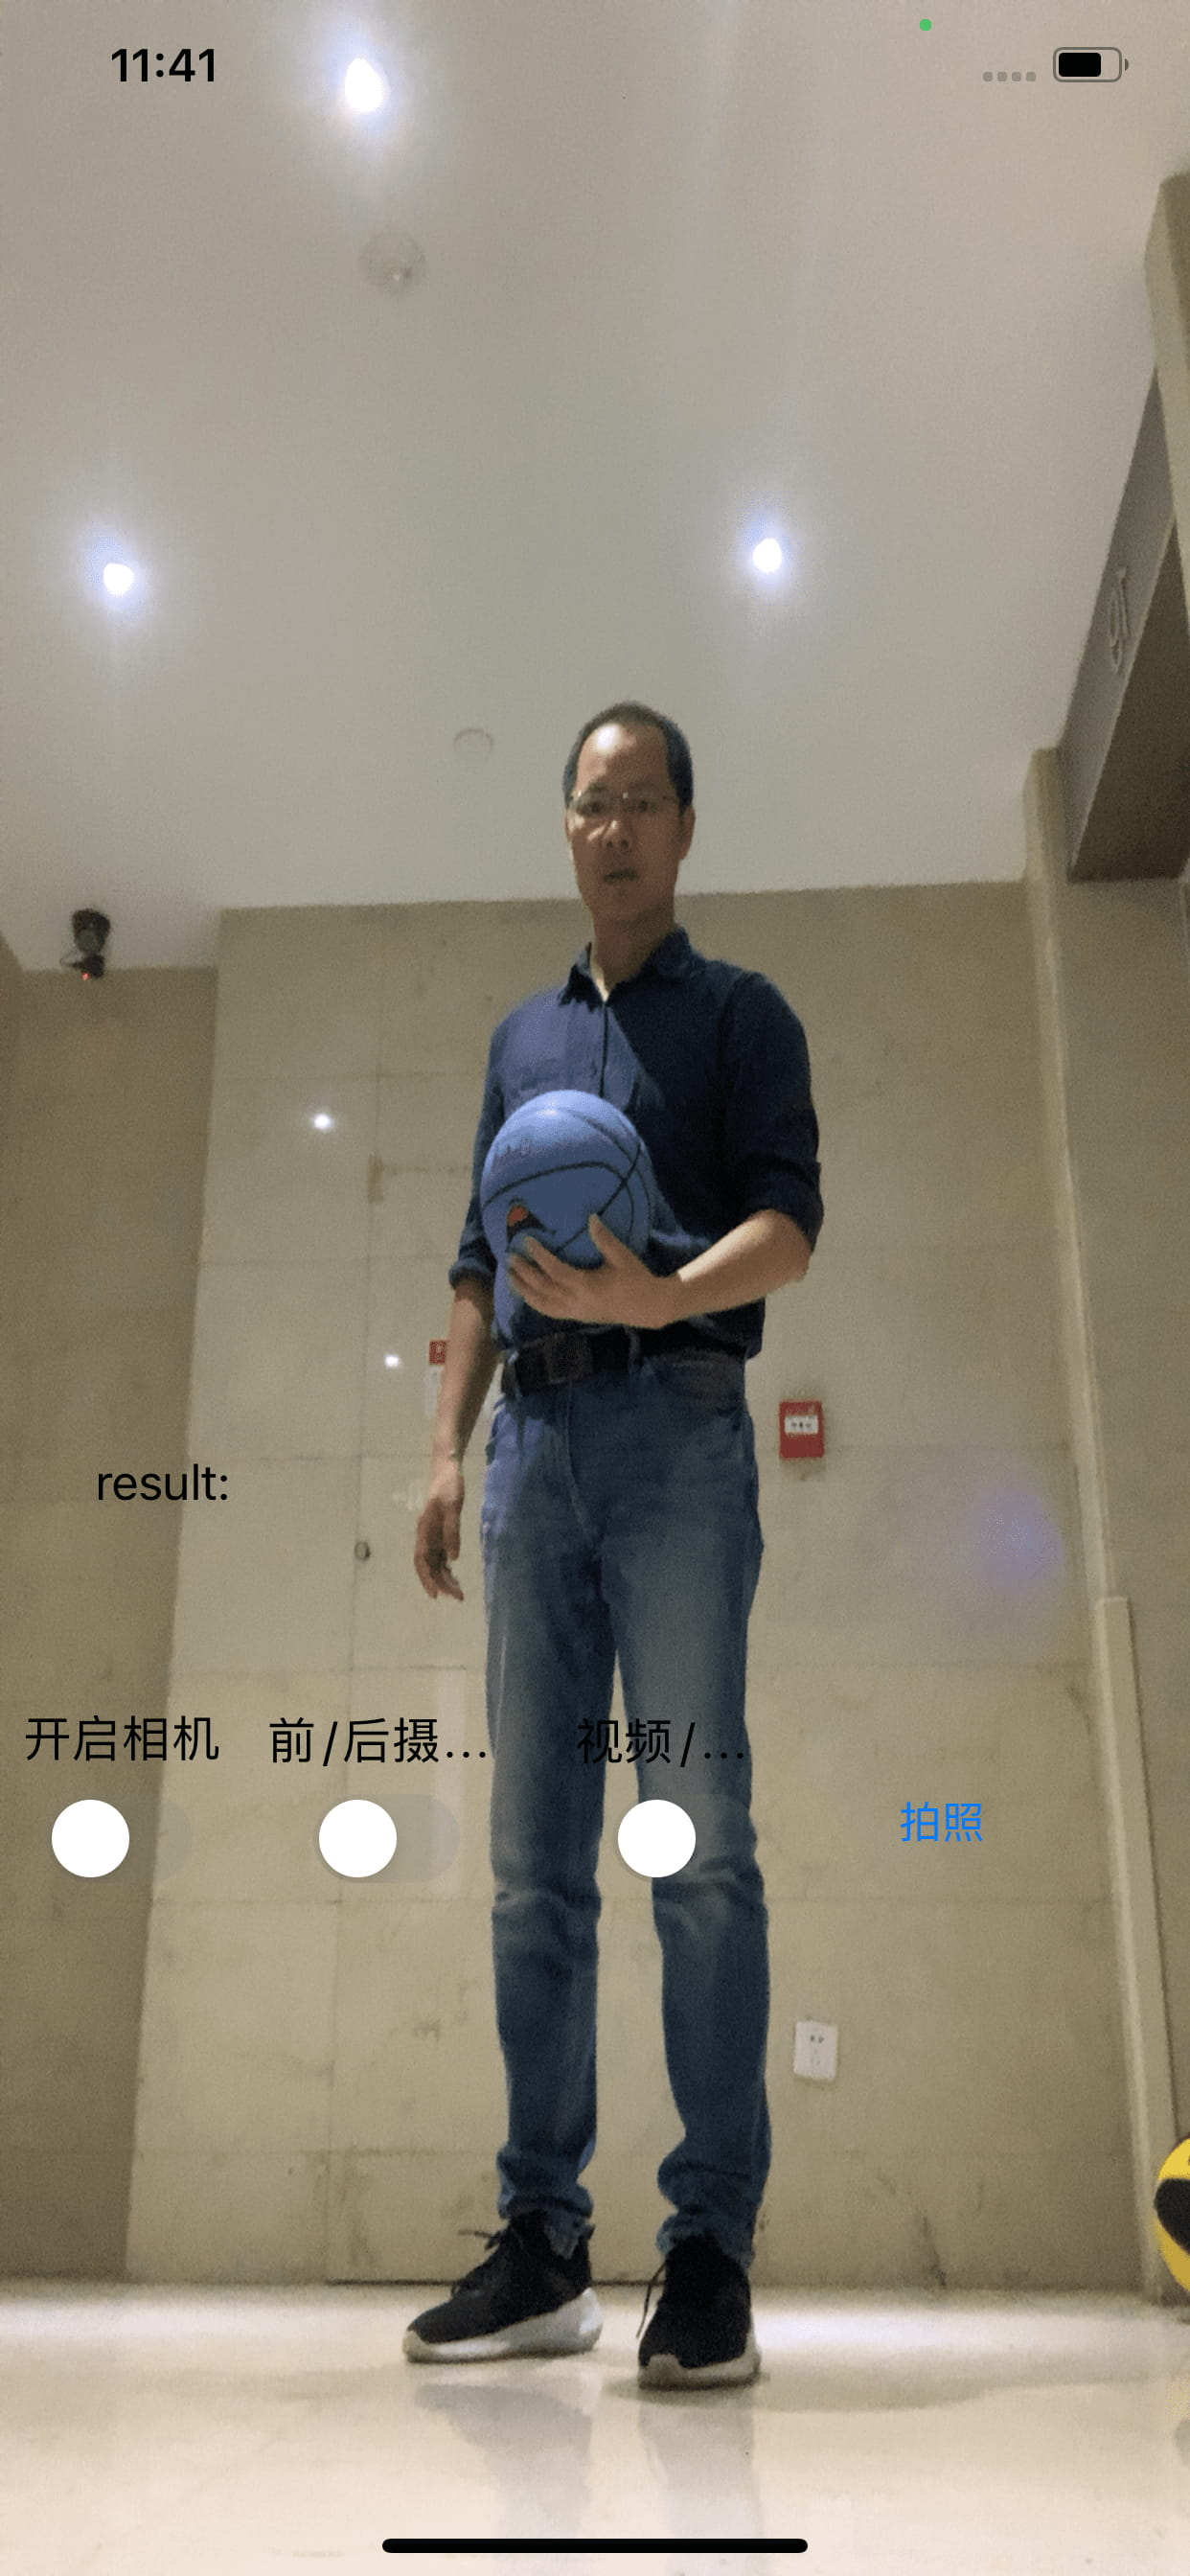ball: (480, 1084, 661, 1298)
